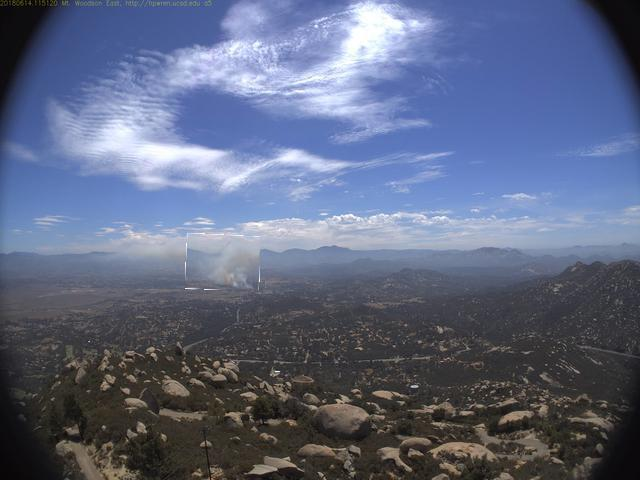smoke: (187, 235, 262, 292)
